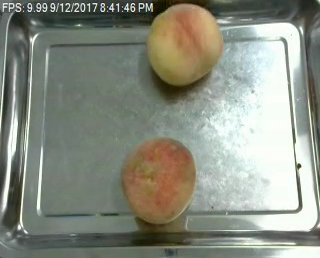Peach: (120, 137, 196, 223), (147, 2, 223, 85)
